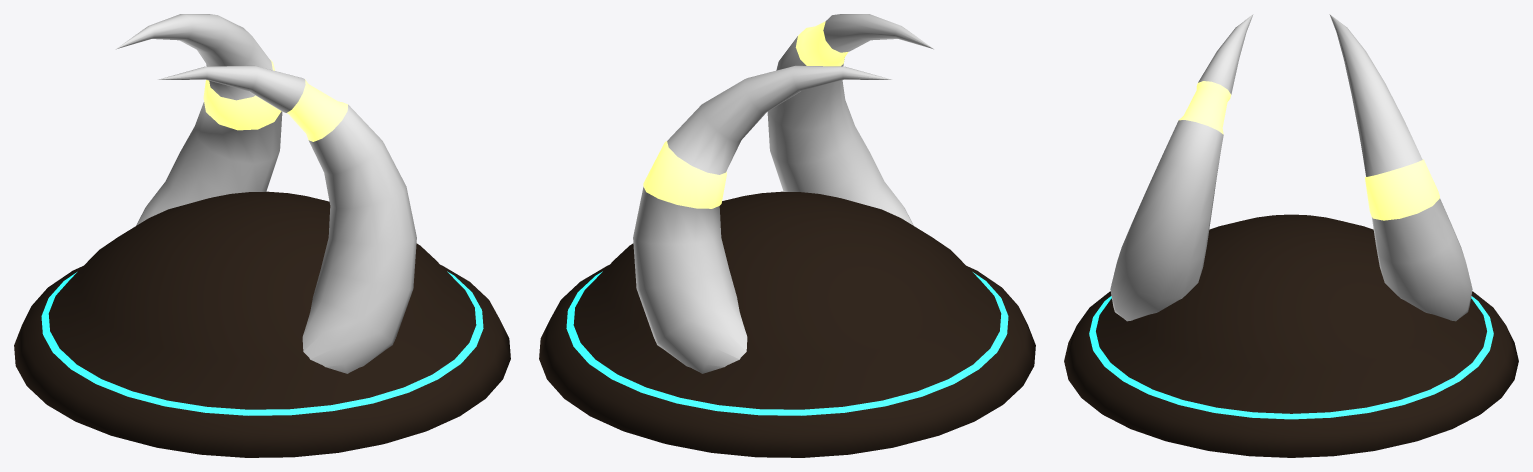
File: Asterix.fbx
3 renders of one model, left to right at view 1: azimuth 30°, elevation 25°; view 2: azimuth 150°, elevation 25°; view 3: azimuth 270°, elevation 25°, orthographic. The views are drawn at different scales.
Parts seen in each view (by area): view 1: Spiral.004; view 2: Spiral.004; view 3: Spiral.004.
Boxes of the visible parts, x1,y1,x2,y2 form: Spiral.004: [14, 14, 510, 457]; Spiral.004: [539, 14, 1035, 457]; Spiral.004: [1064, 14, 1518, 457].
Bounding box in the file's own units: 211 × 155 × 211.
